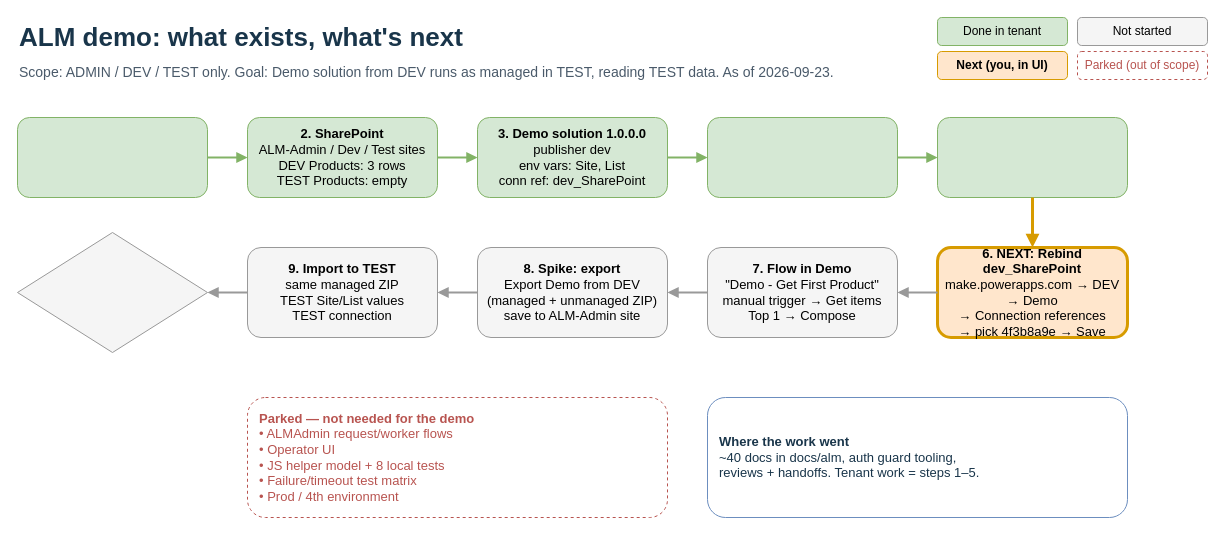
Some shapes in this 1225 by 535 pixel diagram are drawn without their labels. The shapes that lost their labels are listed below. From the top down, each one's centre as x and y in pixels, then its label:
the point at 112,157: 1. Environments ADMIN, DEV, TEST created + Dataverse
the point at 802,157: 4. Canvas app published in DEV reads DEV Products
the point at 1032,157: 5. New SP connection shared-sharepointonl-4f3b8a9e owner bosso, Connected
the point at 112,292: 10. Verify TEST app reads TEST data DEV still reads DEV = DEMO DONE
